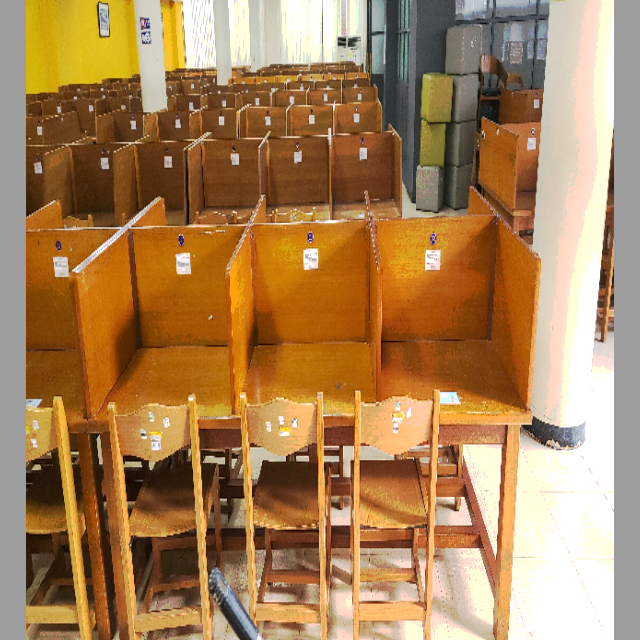empty: (76, 214, 238, 524), (394, 210, 535, 537), (246, 212, 384, 526)
